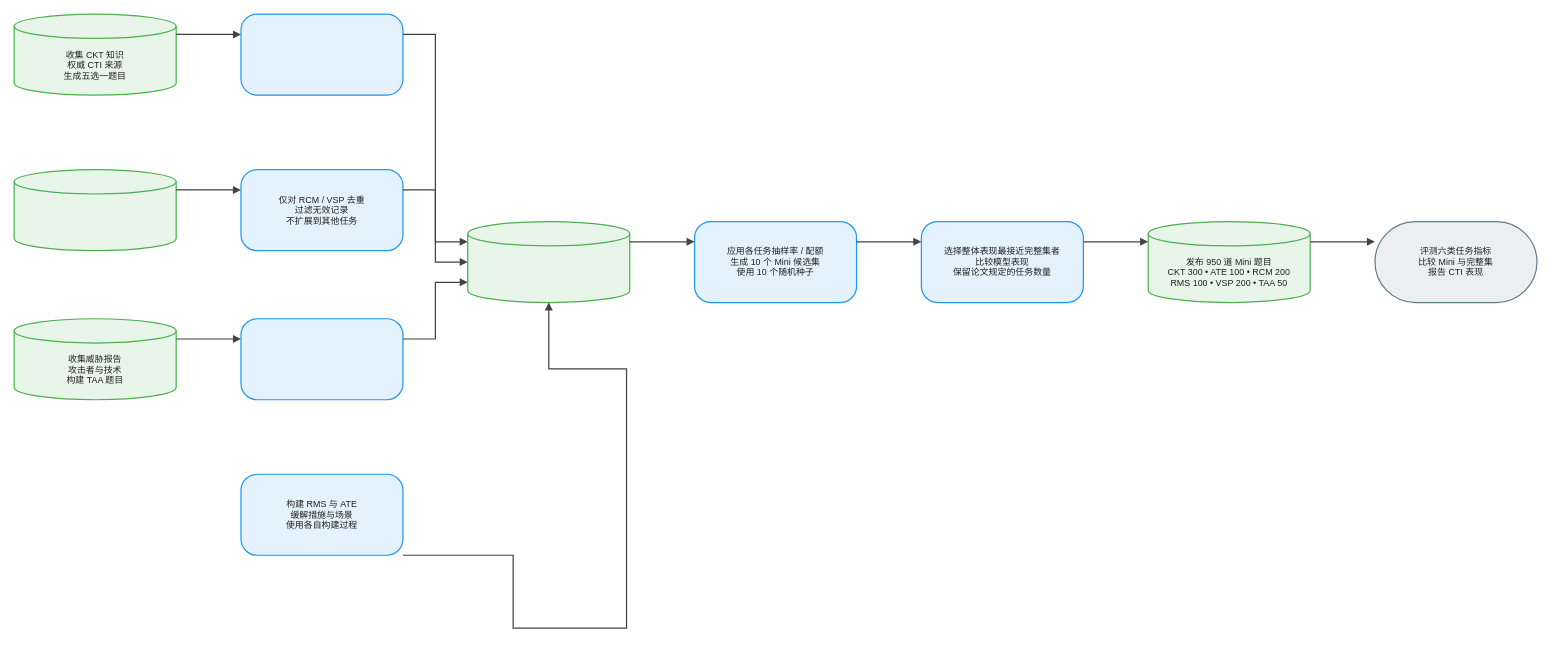
Some shapes in this 1552 by 650 pixel diagram are drawn without their labels. Here are the shapes that lost their labels. From the top down, the centre of each, then its label:
At pixel 321 54: "用 GPT-5 筛选 CKT Gemini 交叉检查 仅 CKT 进行人工修订".
At pixel 94 210: "收集 CVE 与 CVSS 数据 根因与严重度字段 构建 RCM 与 VSP".
At pixel 548 262: "汇总完整 AthenaBench 8,100 题 • 六类任务 保留任务边界".
At pixel 321 359: "仅对 TAA 做泄漏检查 检查攻击者线索 其他任务保持独立".
